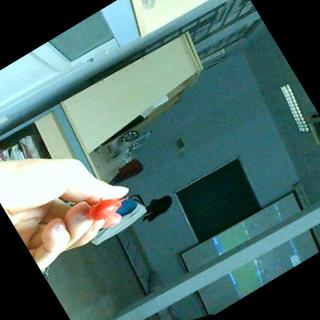Rocket: (80, 192, 121, 229)
